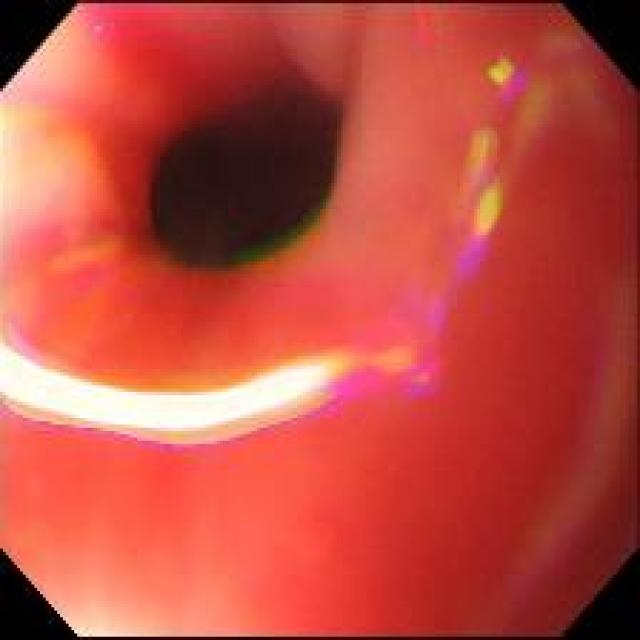blur: (8, 4, 626, 636)
color misalignment: (1, 333, 354, 452), (356, 292, 459, 413), (9, 215, 130, 301), (458, 131, 510, 231), (275, 188, 334, 254), (485, 56, 531, 99), (453, 231, 490, 283), (221, 240, 275, 270)
contrast: (138, 69, 346, 277)
specularity: (2, 342, 100, 423), (99, 386, 205, 428), (256, 364, 330, 404), (205, 376, 257, 427)
